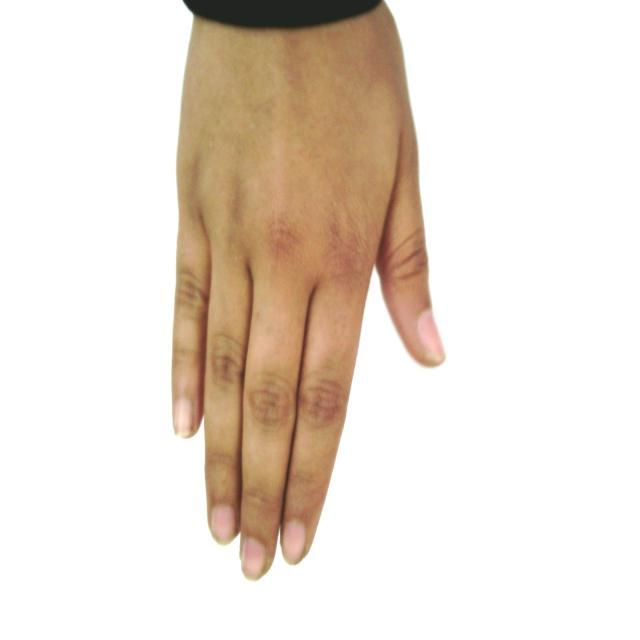Fingernail: (418, 311, 445, 359), (284, 520, 305, 565), (243, 539, 265, 579), (213, 506, 236, 544), (176, 400, 193, 436)
